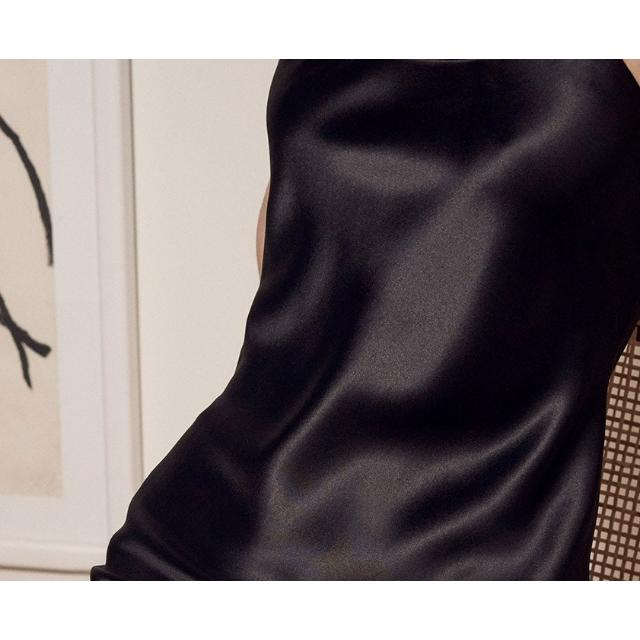silk: (0, 59, 640, 581)
